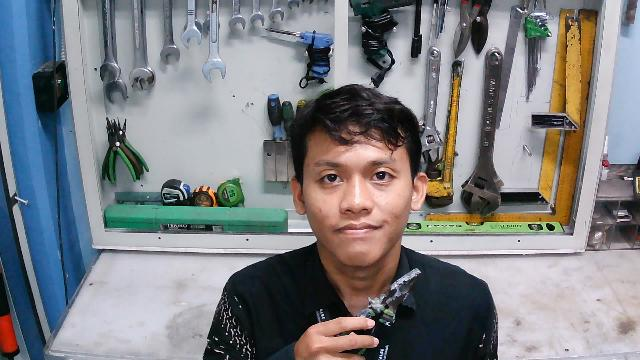tang_kombinasi: (342, 264, 427, 348)
